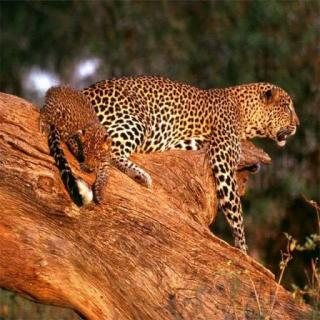Leopard: (99, 74, 303, 179), (31, 77, 128, 209)
